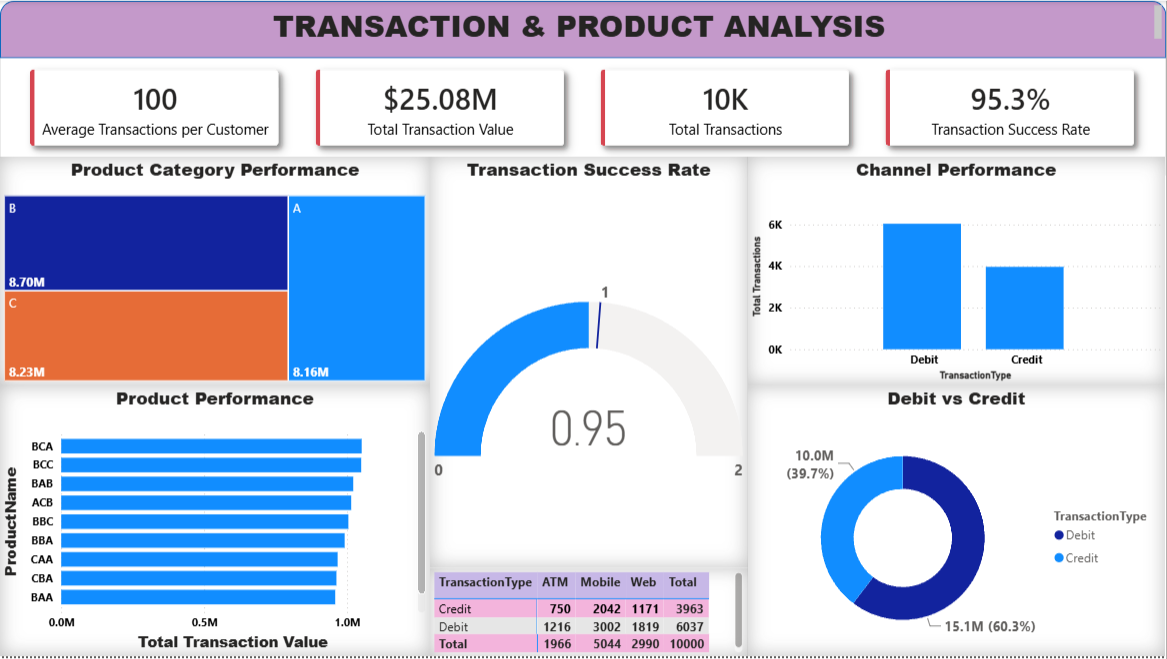

What the dashboard file says about the page in this screenshot:
{"tool":"powerbi","page":{"name":"Transaction & Product Analysis","canvas":[1280,720],"ordinal":2},"visuals":[{"type":"cardVisual","fields":{"Data":["account.Average Transactions per Customer","account.Total Transaction Value","account.Total Transactions","account.Transaction Success Rate"]},"box":[0,42.5,1280,150],"z":0},{"type":"shape","box":[0,0,1280.3,63.1],"z":1000},{"type":"textbox","box":[0,0,1280.3,50.8],"z":2000},{"type":"treemap","title":"Product Category Performance","fields":{"Group":["category.ProductCategoryName"],"Values":["account.Total Transaction Value"]},"box":[0,171.5,472,251.1],"z":2001},{"type":"barChart","title":"Product Performance","fields":{"Category":["product.ProductName"],"Y":["account.Total Transaction Value"]},"box":[0,422.6,472,297.8],"z":2004},{"type":"donutChart","title":"Debit vs Credit","fields":{"Category":["fact_transaction.TransactionType"],"Y":["account.Total Transaction Value"]},"box":[820.6,422.2,458.3,297.8],"z":2005},{"type":"clusteredColumnChart","title":"Channel Performance","fields":{"Category":["fact_transaction.TransactionType"],"Y":["account.Total Transactions"]},"box":[820.6,171.5,458.3,251.1],"z":2006},{"type":"pivotTable","fields":{"Rows":["fact_transaction.TransactionType"],"Columns":["fact_transaction.TransactionChannel"],"Values":["account.Total Transactions"]},"box":[472,623,348.5,97.4],"z":2008},{"type":"gauge","title":"Transaction Success Rate","fields":{"Y":["account.Transaction Success Rate"],"TargetValue":["account.Success Rate Target"]},"box":[472,171.5,348.5,451.5],"z":2009}]}

Visuals, with their boxes in screenshot pixels (x1, y1, x2, y2), scaled from the page's 1280x720 canvas onto the 1167x659 screenshot:
cardVisual - account.Average Transactions per Customer x account.Total Transaction Value: locate(0, 39, 1166, 176)
shape: locate(0, 0, 1166, 58)
textbox: locate(0, 0, 1166, 46)
"Product Category Performance" treemap: locate(0, 157, 430, 387)
"Product Performance" barChart: locate(0, 387, 430, 658)
"Debit vs Credit" donutChart: locate(748, 386, 1166, 658)
"Channel Performance" clusteredColumnChart: locate(748, 157, 1166, 387)
pivotTable - fact_transaction.TransactionType x fact_transaction.TransactionChannel: locate(430, 570, 748, 658)
"Transaction Success Rate" gauge: locate(430, 157, 748, 570)
